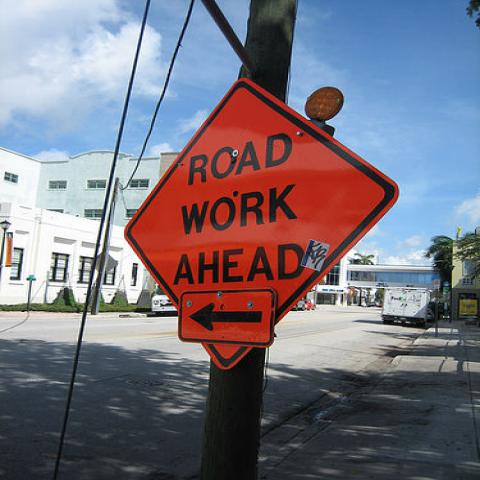car: (150, 284, 179, 314), (290, 299, 306, 313), (303, 298, 316, 310), (366, 301, 379, 307)
truck: (382, 287, 431, 326)
